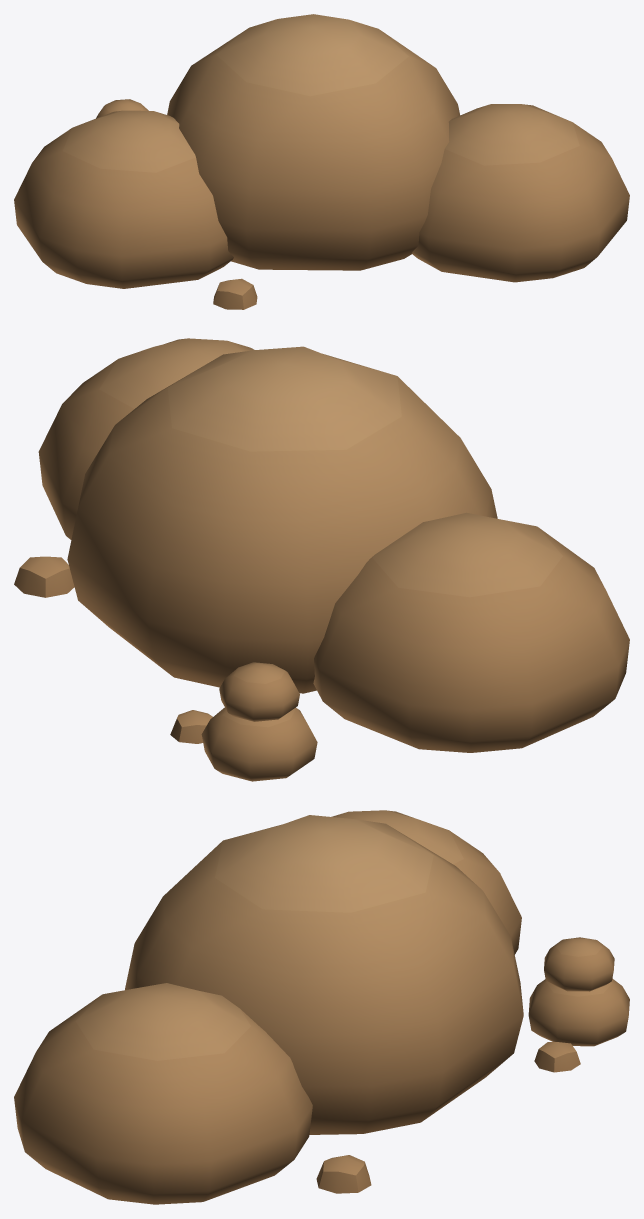
File: Rock_5_G_Color5.fbx
3 renders of one model, top to bottom at view 1: azimuth 30°, elevation 25°; view 2: azimuth 150°, elevation 25°; view 3: azimuth 270°, elevation 25°, orthographic. The views are drawn at different scales.
Parts seen in each view (by area): view 1: Rock_5_G_Color5; view 2: Rock_5_G_Color5; view 3: Rock_5_G_Color5.
Boxes of the visible parts, box(x1,y1,x2,y2) form: Rock_5_G_Color5: box(14, 14, 629, 309); Rock_5_G_Color5: box(14, 338, 629, 781); Rock_5_G_Color5: box(14, 810, 629, 1204).
Bounding box in the file's own units: 2.35 × 0.9346 × 2.05.
